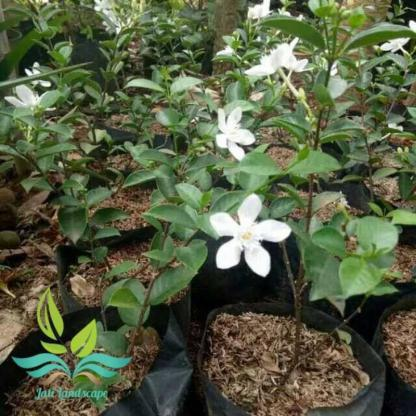Melati: (201, 192, 309, 287), (200, 106, 269, 164), (229, 44, 322, 84), (7, 57, 64, 116), (378, 23, 413, 63)
